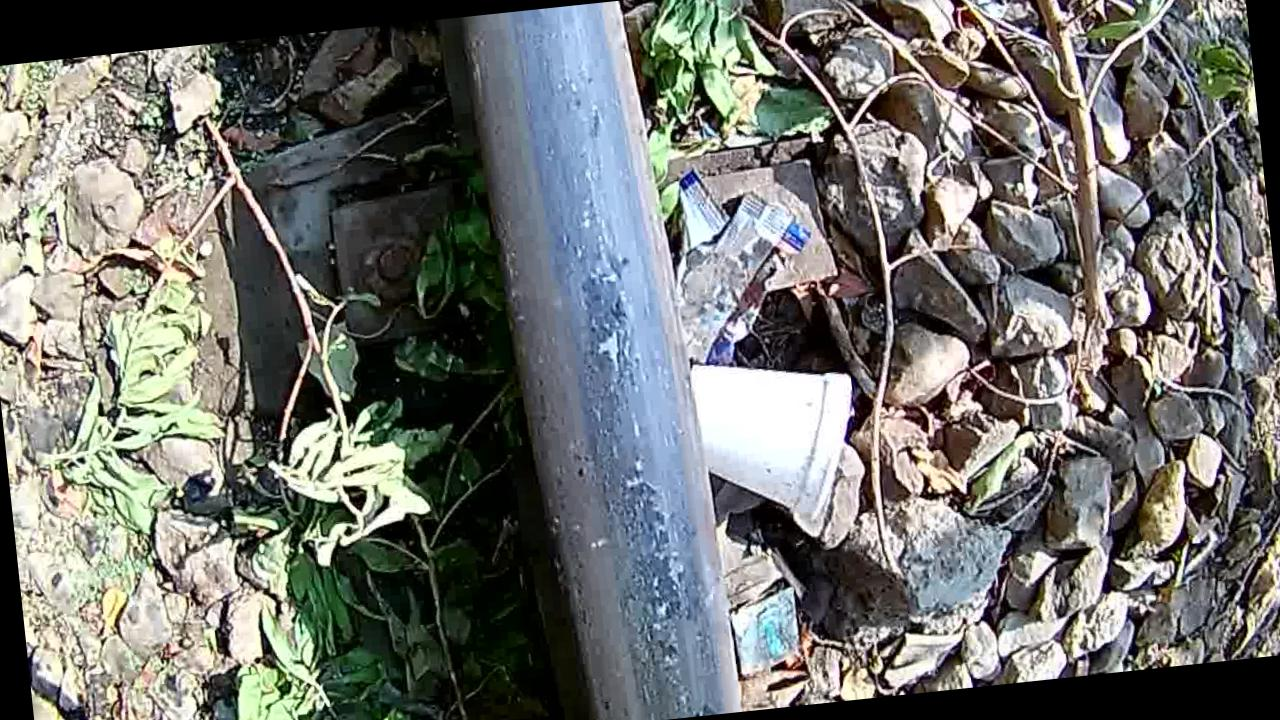crack: (479, 33, 723, 720)
